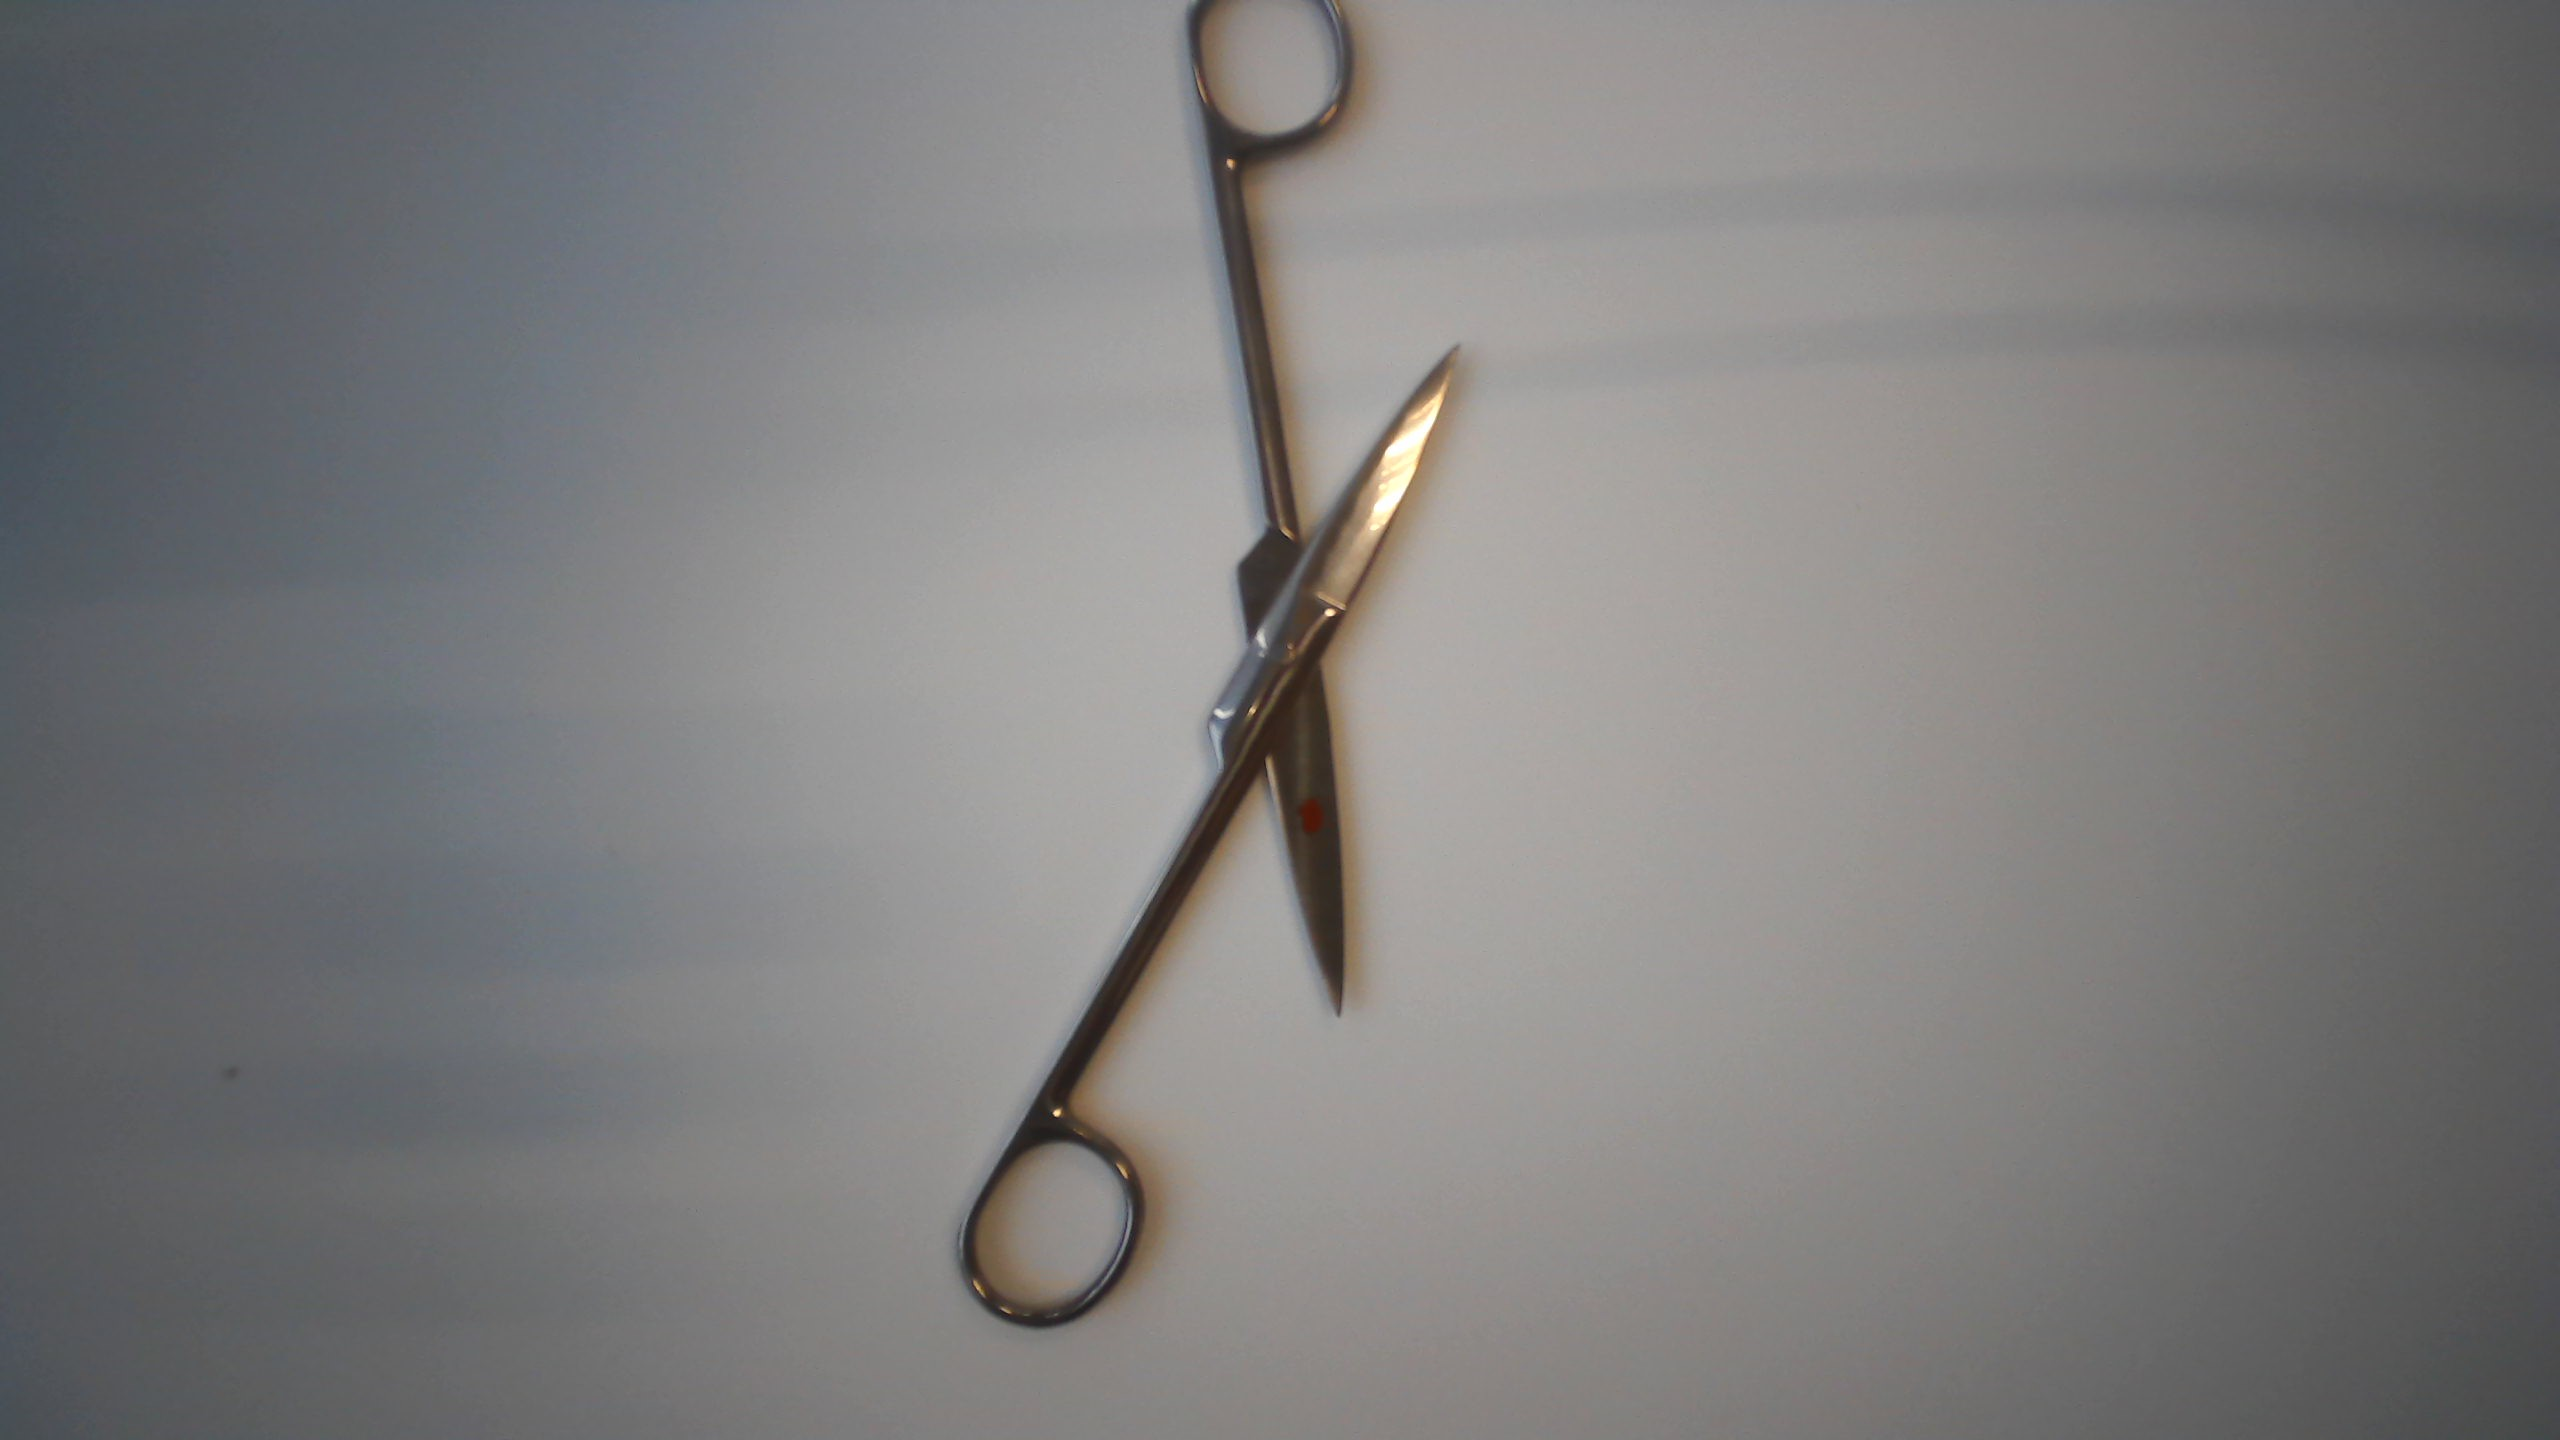Stain: (1284, 788, 1336, 855)
